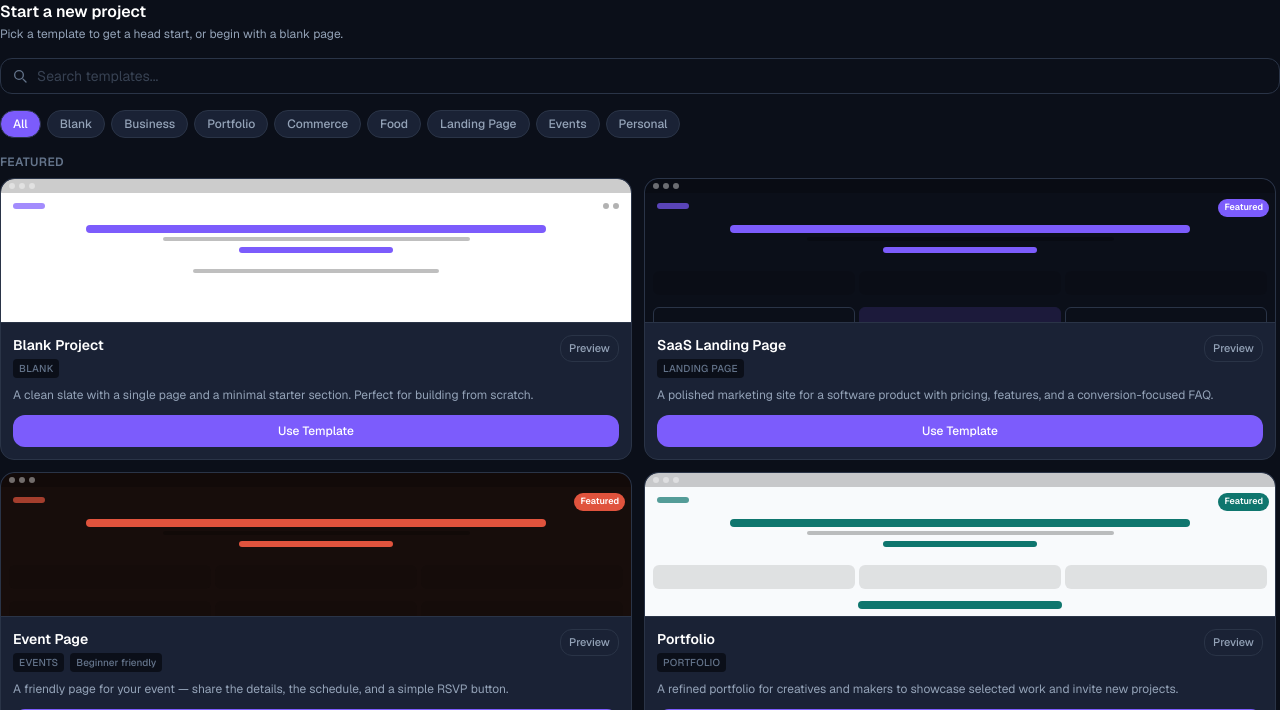
Scenario: TemplateGallery › featured section is hidden while searching
In the field labelled "Search templates": (640, 76) [0,58,1279,94], type "restaurant"
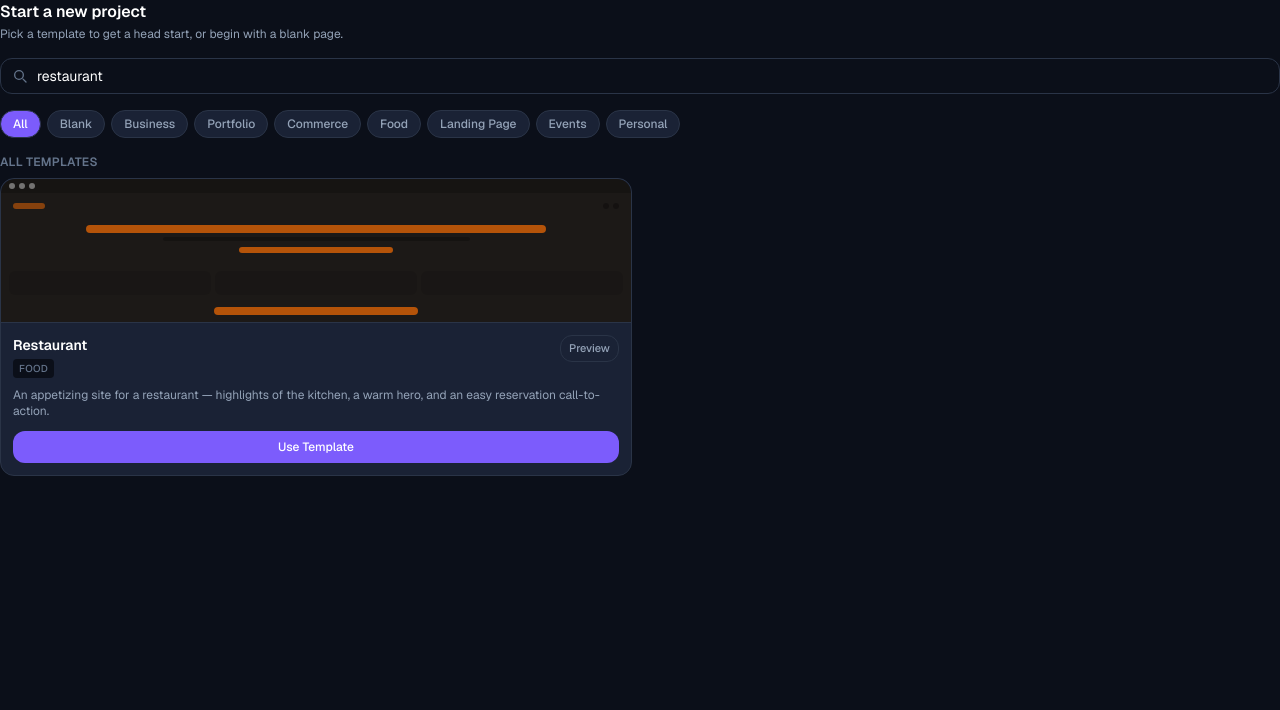
Check: the heading "Featured" is gone
